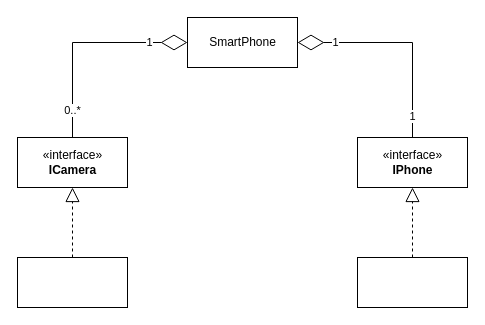
Some shapes in this 485 by 325 pixel diagram are drawn without their labels. The shapes that lost their labels are listed below. From the top down, each one's box as (x1, y1, x2, y2) in pixels, then its label:
(16, 256, 128, 308): AndroidCamera
(356, 256, 468, 308): AndroidPhone
